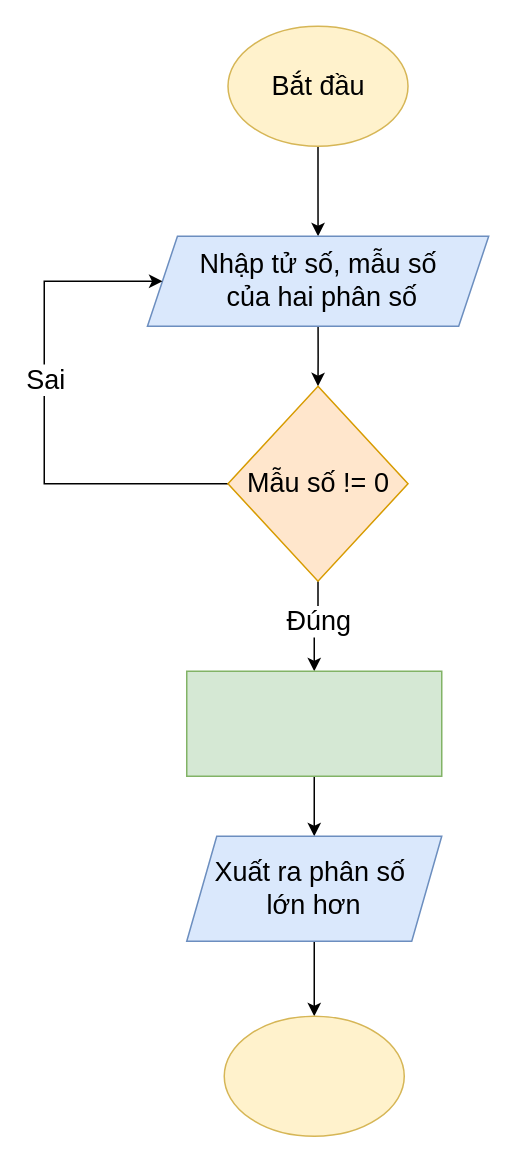
This 516x1163 diagram has some shape labels left out. Here are the shapes that lost their labels. From the top down, the box of each, then its label:
(185, 670, 442, 776): So sánh 2 phân số quy đồng mẫu số
(223, 1015, 404, 1136): Kết thúc
